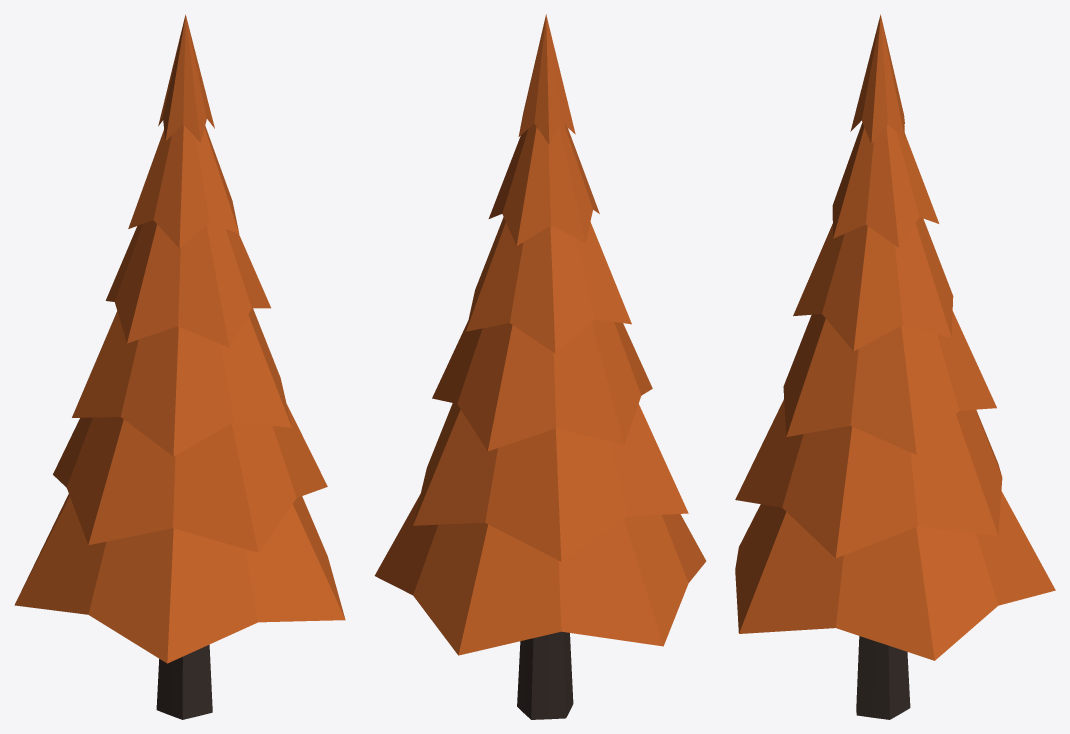
File: Pine_Tree_1_Autumn.fbx
The picture shows the model from 3 angles, left to right: view 1: azimuth 30°, elevation 25°; view 2: azimuth 150°, elevation 25°; view 3: azimuth 270°, elevation 25°; orthographic projection.
Parts seen in each view (by area): view 1: Pine_Tree_1_Autumn; view 2: Pine_Tree_1_Autumn; view 3: Pine_Tree_1_Autumn.
Boxes of the visible parts, x1=… form: Pine_Tree_1_Autumn: x1=14, y1=14, x2=345, y2=719; Pine_Tree_1_Autumn: x1=374, y1=14, x2=706, y2=719; Pine_Tree_1_Autumn: x1=735, y1=14, x2=1055, y2=719.
Size of the model in its own units: 267 by 614 by 257.
